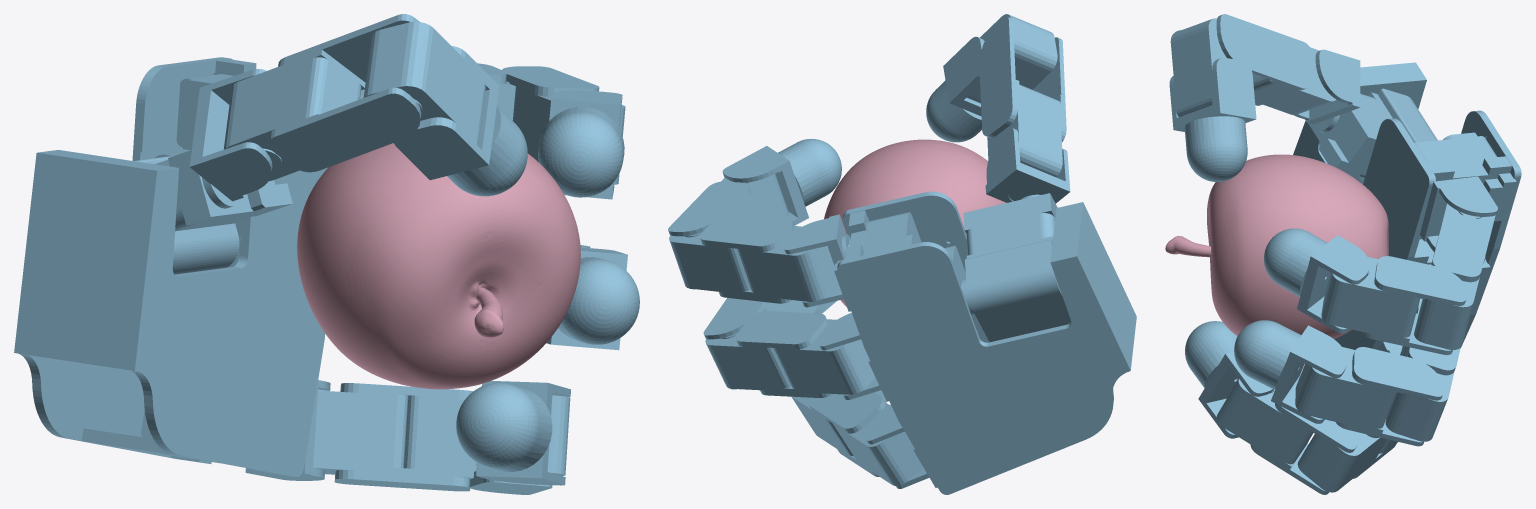
3 renders of one model, left to right at view 1: azimuth 30°, elevation 25°; view 2: azimuth 150°, elevation 25°; view 3: azimuth 270°, elevation 25°, orthographic. The views are drawn at different scales.
Visible parts, largest first — view 1: world; view 2: world; view 3: world.
Part boxes in pixels (box(x1,y1,x2,y2)): world: box(14, 14, 639, 494); world: box(668, 14, 1136, 494); world: box(1165, 14, 1521, 494).
Bounding box in the file's own units: 0.192 × 0.1795 × 0.14.
